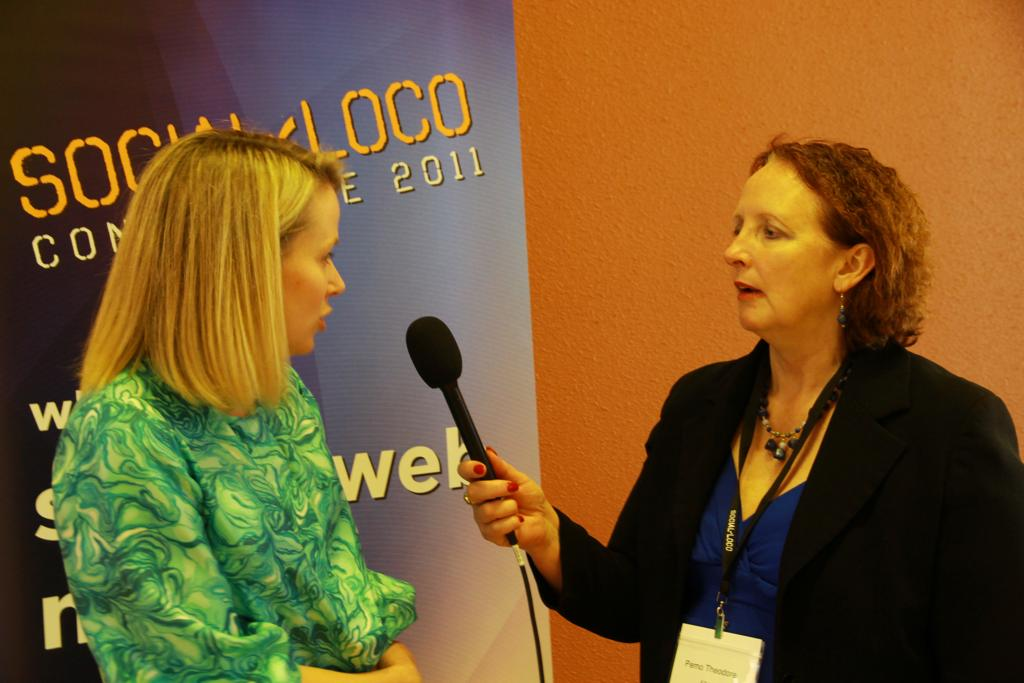face: (244, 174, 348, 352), (728, 162, 830, 328)
